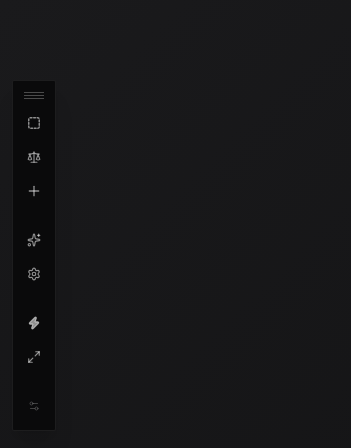
Test: CustomizePopover — button list › should show "Show button" on EyeOff button and "Hide button" on Eye button
Click the button titled "Customize Toolbar".
click(34, 406)  # box [20,392,48,420]
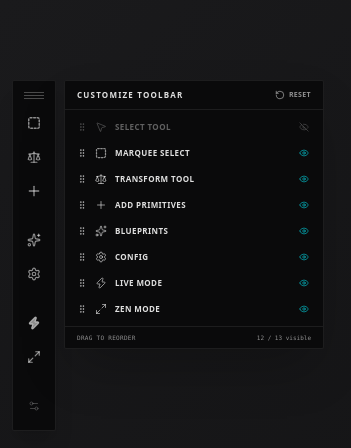
Expected: the button titled "Show button" is shown, [297,120,311,134]
Now the number of buttons titled "Hide button" is 7
